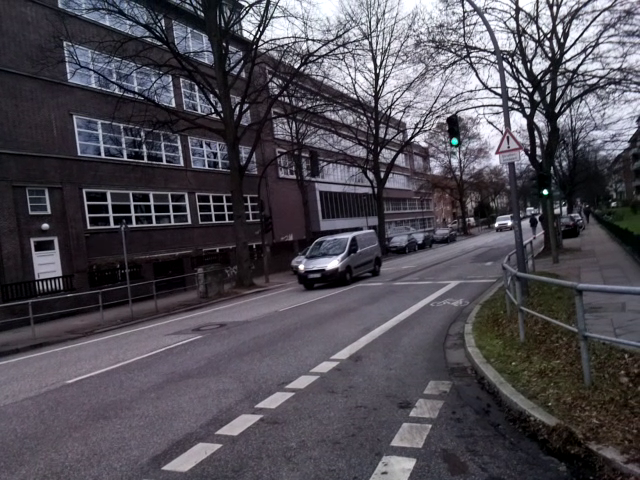car: (288, 228, 395, 292)
